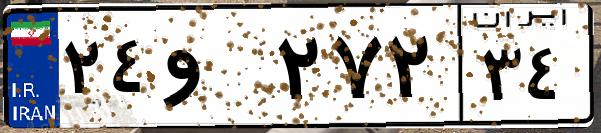2: (270, 28, 330, 110), (385, 28, 445, 110), (57, 26, 110, 100)
3: (475, 38, 525, 113)
4: (525, 38, 570, 115), (110, 28, 158, 98)
7: (330, 28, 385, 110)
و: (158, 20, 270, 120)
